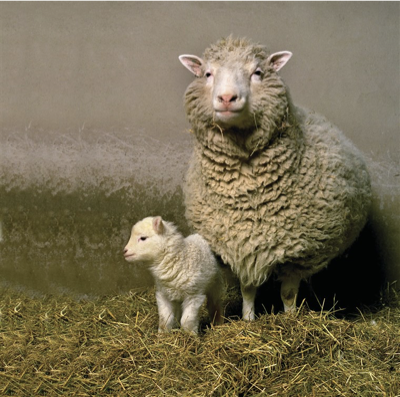koyun: (178, 39, 373, 323), (123, 216, 226, 335)
